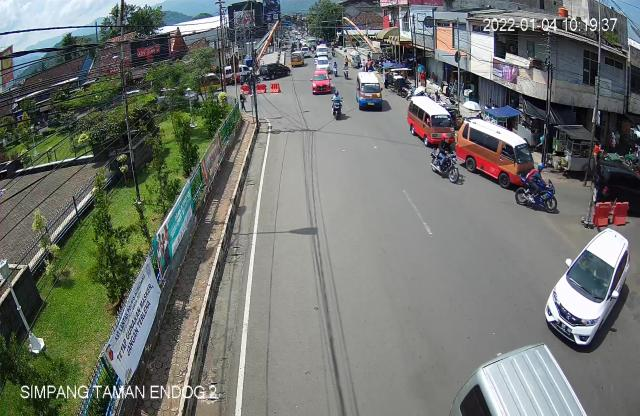Mobil: (543, 226, 633, 354), (454, 115, 537, 189), (589, 155, 640, 214), (408, 95, 458, 147), (355, 70, 386, 114)
Motor: (514, 162, 562, 224), (428, 131, 463, 193), (330, 89, 346, 124)
